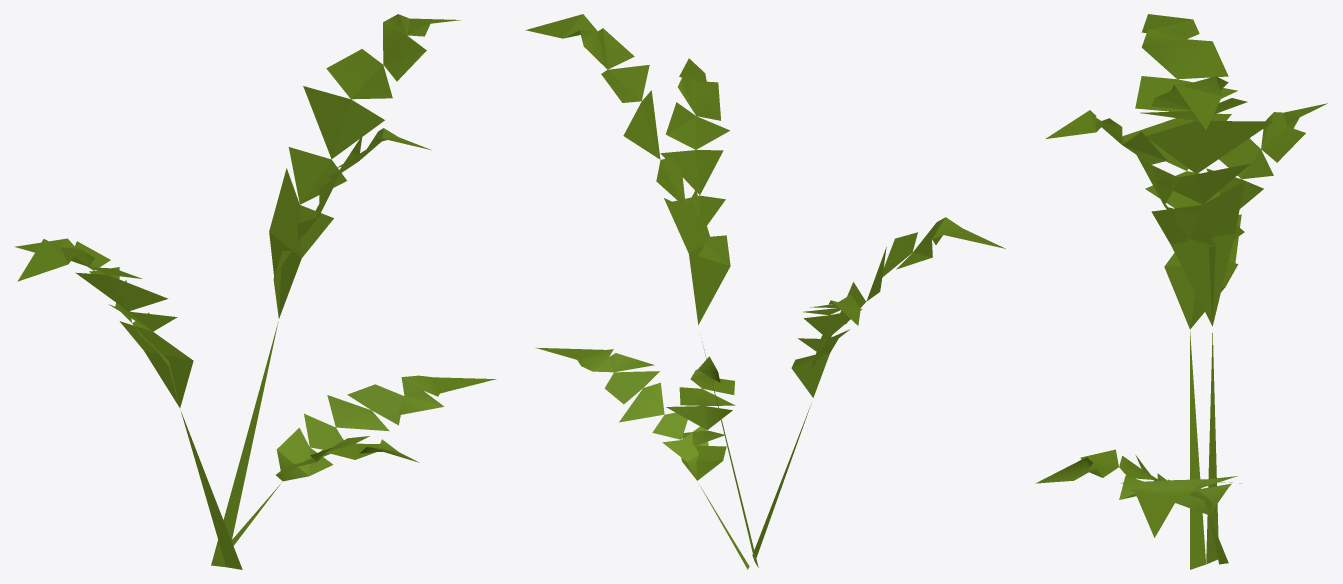
3 renders of one model, left to right at view 1: azimuth 30°, elevation 25°; view 2: azimuth 150°, elevation 25°; view 3: azimuth 270°, elevation 25°, orthographic. The views are drawn at different scales.
Parts seen in each view (by area): view 1: model; view 2: model; view 3: model.
Boxes of the visible parts, x1,y1,x2,y2 form: model: (14,14,496,569); model: (525,14,1005,569); model: (1035,14,1327,569).
Bounding box in the file's own units: 1.56 × 1.57 × 0.7109.
